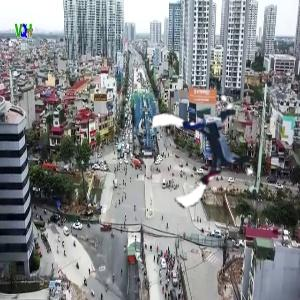drone: (152, 101, 256, 205)
